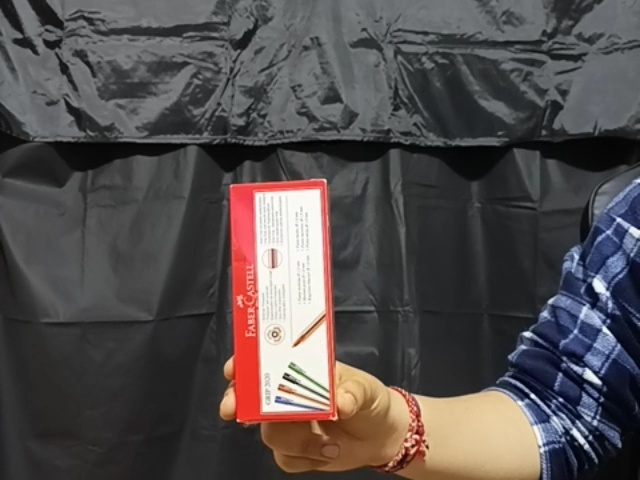xd: (227, 179, 338, 421)
